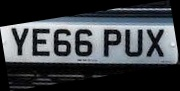character: (31, 27, 50, 56), (11, 27, 29, 56), (103, 28, 121, 57), (146, 28, 164, 57), (53, 28, 71, 56), (74, 28, 92, 56), (125, 28, 143, 56)
